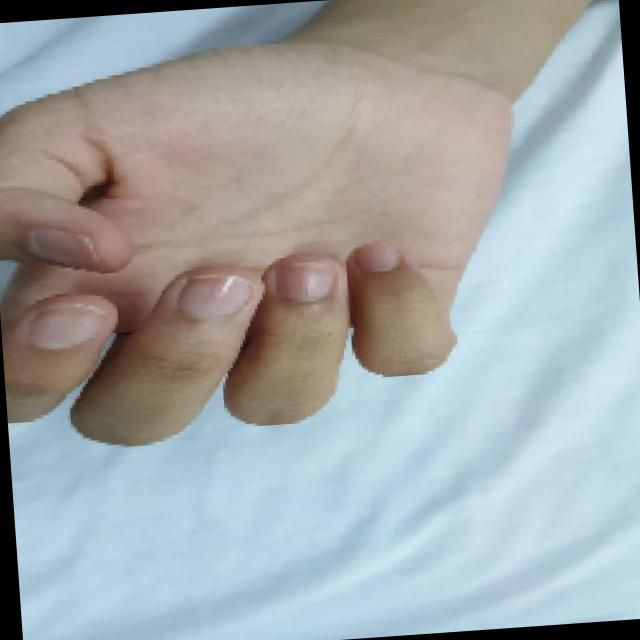Nail: (28, 304, 106, 348), (178, 272, 252, 317), (24, 228, 97, 264), (275, 260, 332, 303), (355, 242, 399, 271)
